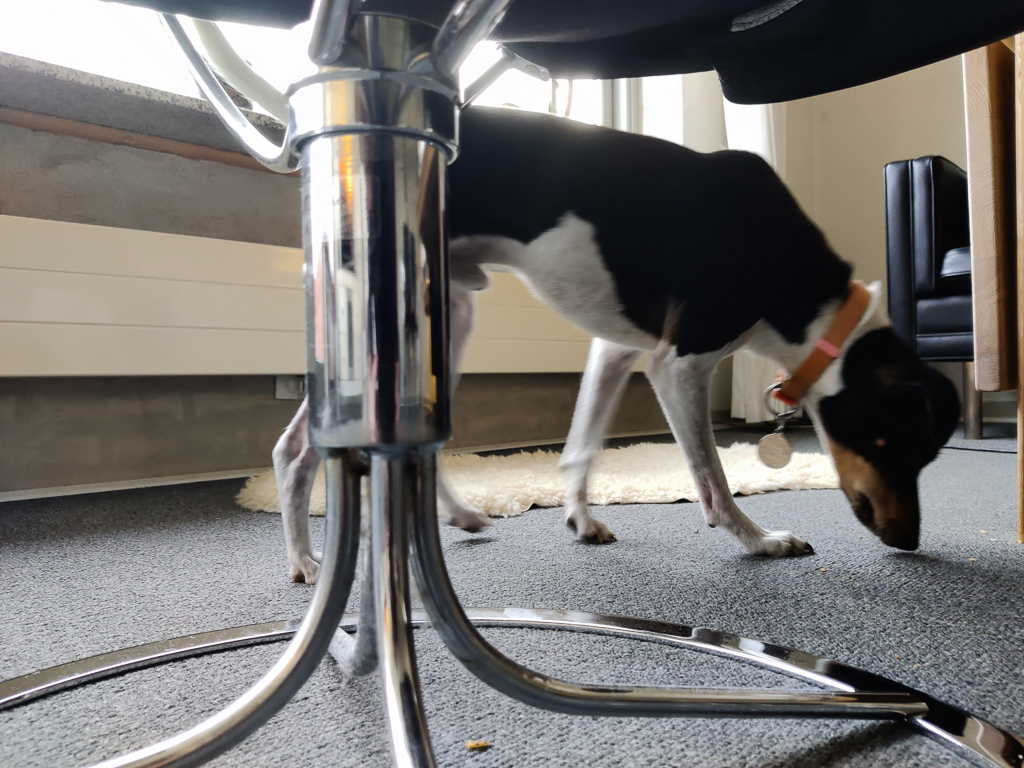Dog: (184, 13, 982, 599)
